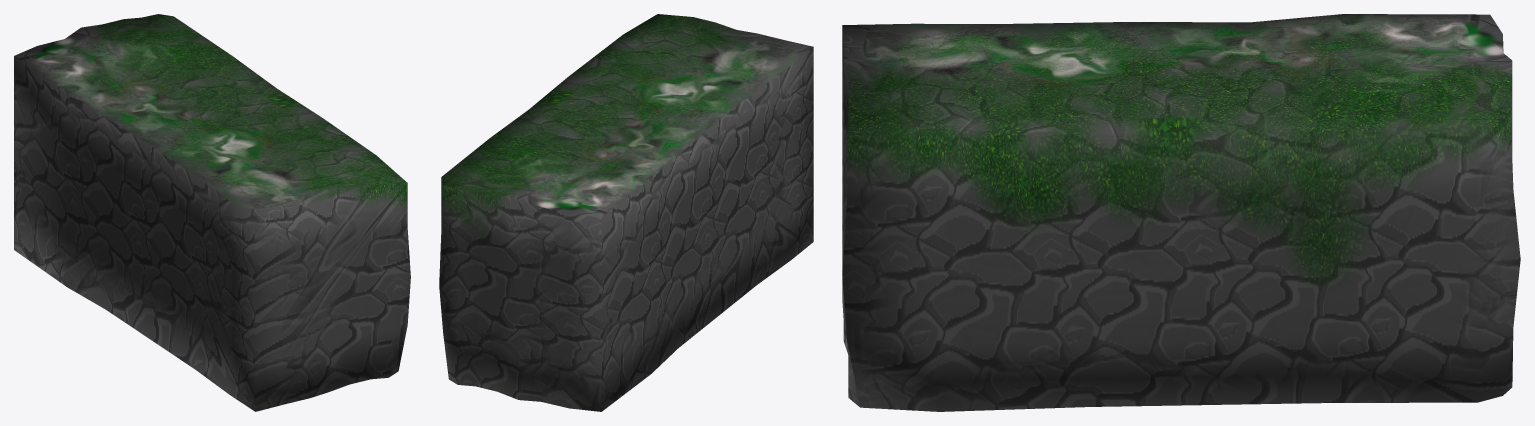
File: stoneNearCave2.fbx
3 renders of one model, left to right at view 1: azimuth 30°, elevation 25°; view 2: azimuth 150°, elevation 25°; view 3: azimuth 270°, elevation 25°, orthographic. The views are drawn at different scales.
Parts seen in each view (by area): view 1: stoneNearCave2; view 2: stoneNearCave2; view 3: stoneNearCave2.
Boxes of the visible parts, x1,y1,x2,y2 form: stoneNearCave2: (14, 14, 410, 411); stoneNearCave2: (439, 14, 813, 411); stoneNearCave2: (842, 14, 1520, 411).
Size of the model in its own units: 635 by 719 by 1504.
1 material, 1 textured.
